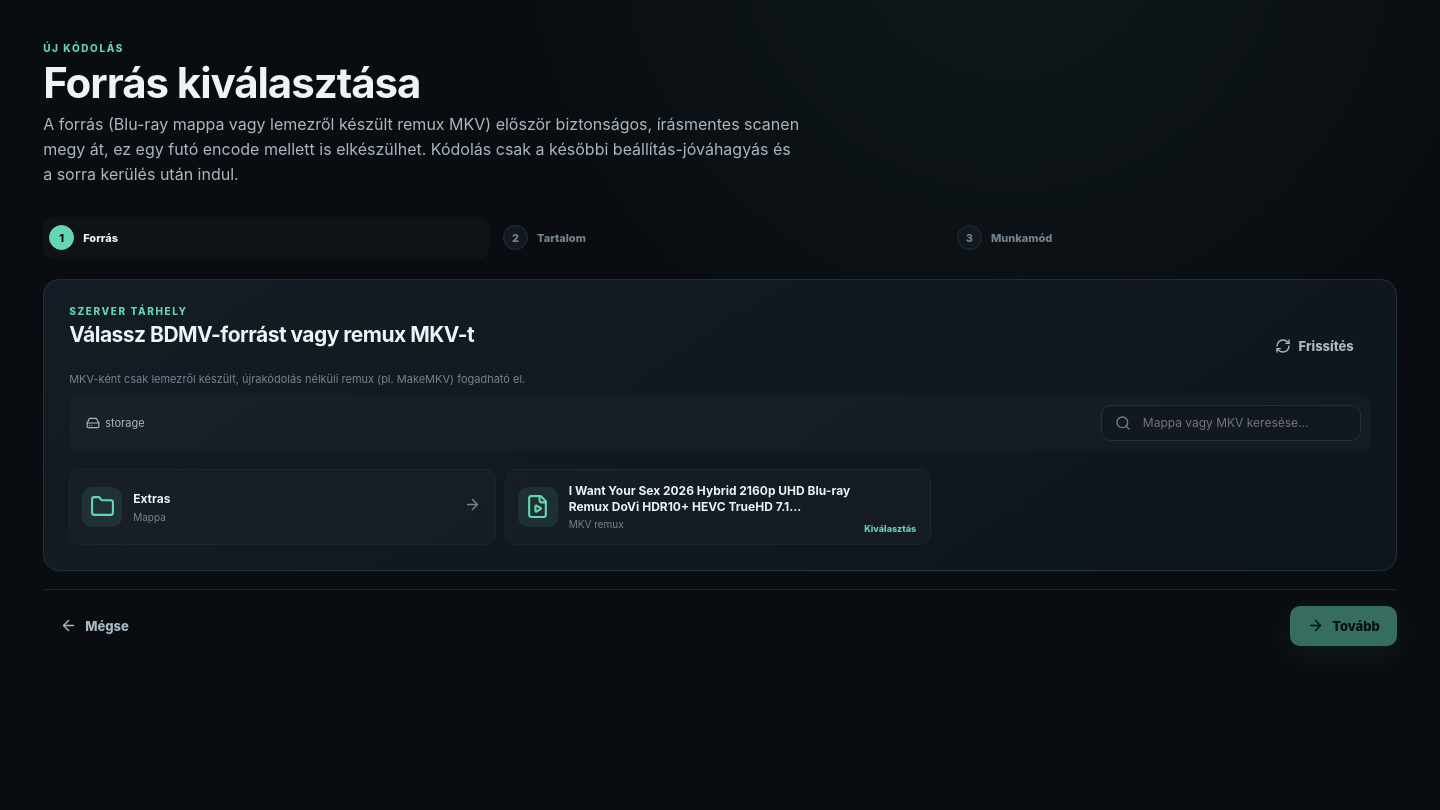
Scenario: NewEncodePage › offers a disc-remux MKV file as a source, named without its extension
Expected: the text "MKV remux" is shown, [569,518,624,530]
Expected: the button titled "I Want Your Sex 2026 Hybrid 2160p UHD Blu-ray Remux DoVi HDR10+ HEVC TrueHD 7.1 Atmos.mkv" is shown, [506,470,930,544]
What coordinates should you click on to do the following:
click the button "Kiválasztás"
I would click on:
 (890, 528)
Its box is [858,520,922,537].
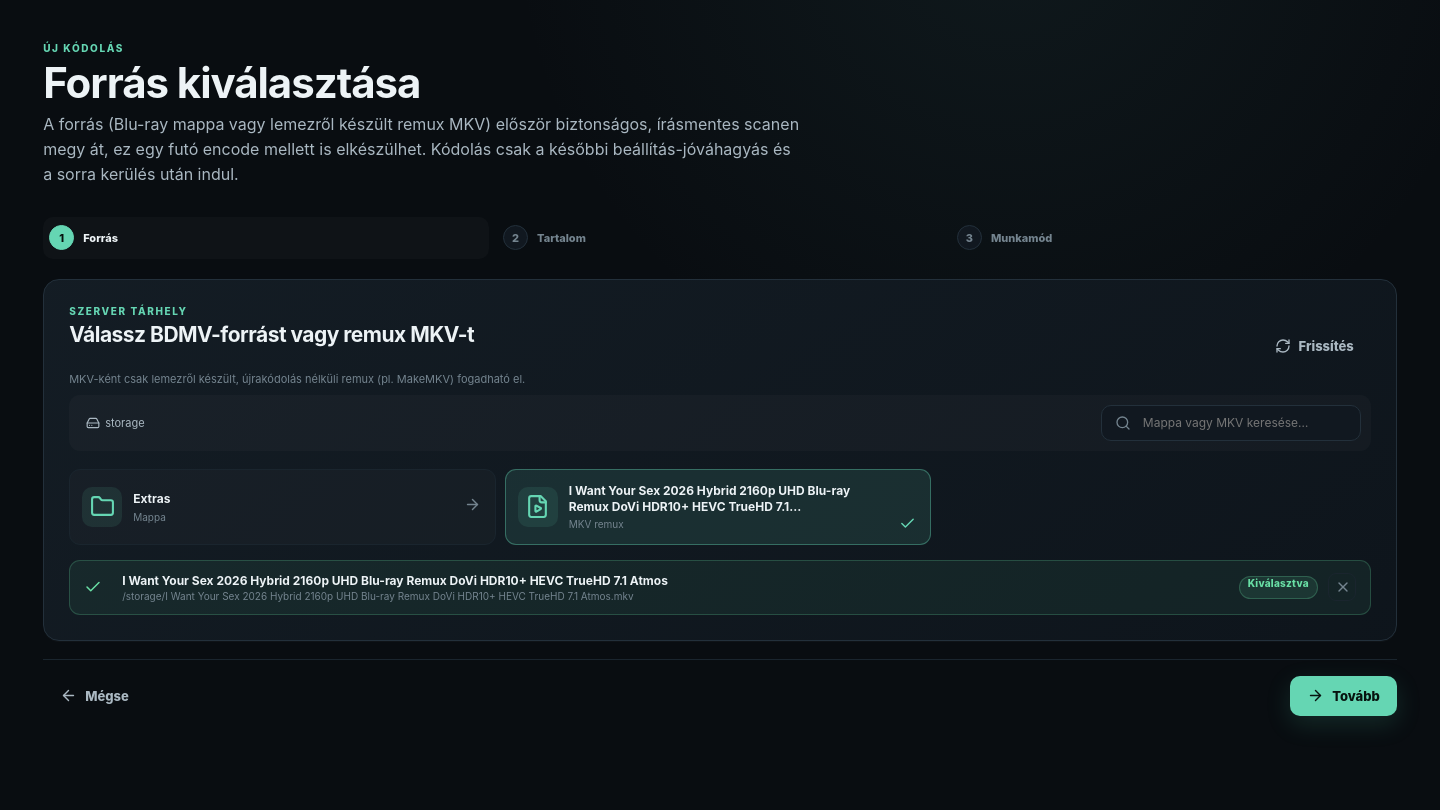
What coordinates should you click on to do the following:
click the button "Tovább"
I would click on:
 (1343, 696)
Its box is [1290,676,1397,716].
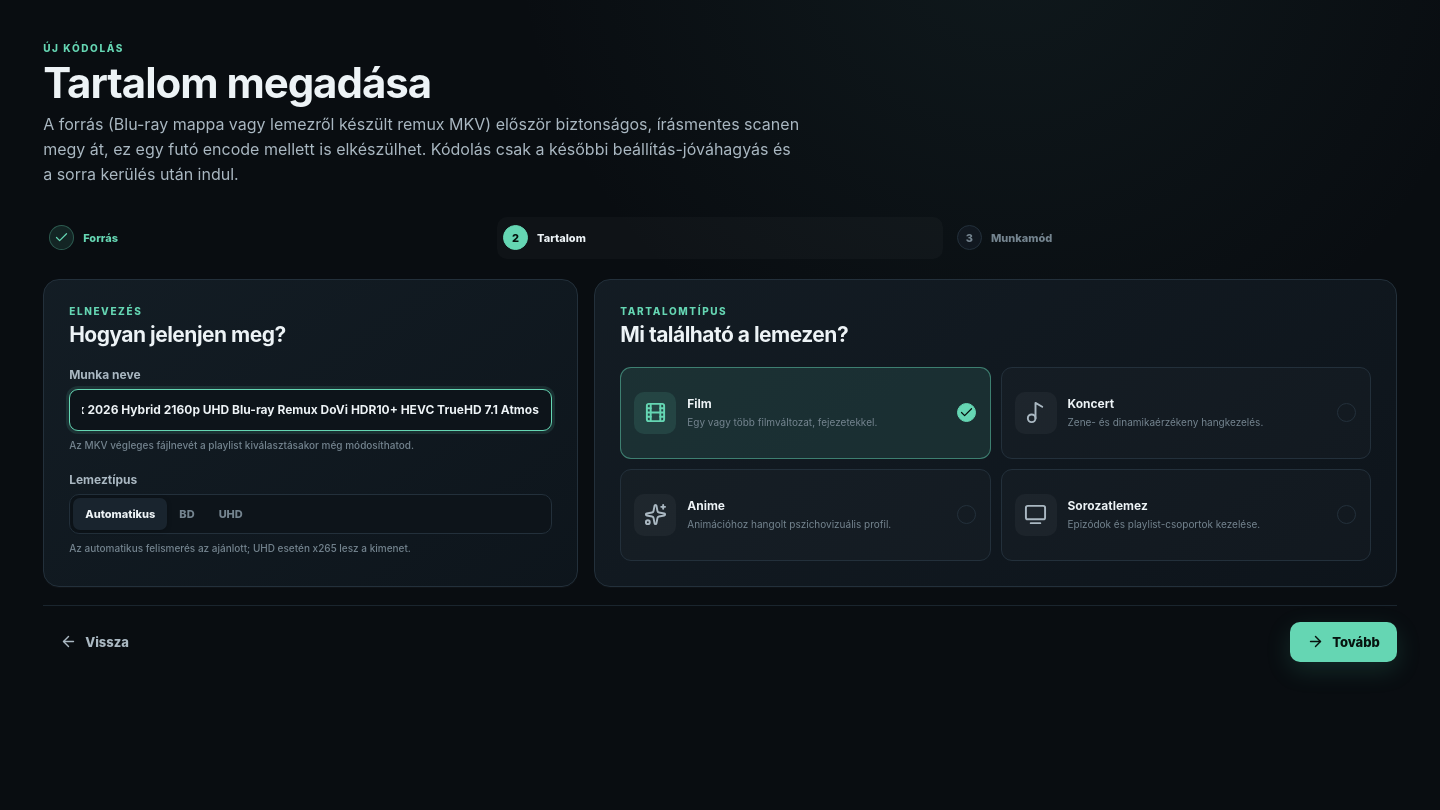
Result: the field with placeholder "Például: A film címe (2024)" holds "I Want Your Sex 2026 Hybrid 2160p UHD Blu-ray Remux DoVi HDR10+ HEVC TrueHD 7.1 Atmos" at [69,389,552,431]
